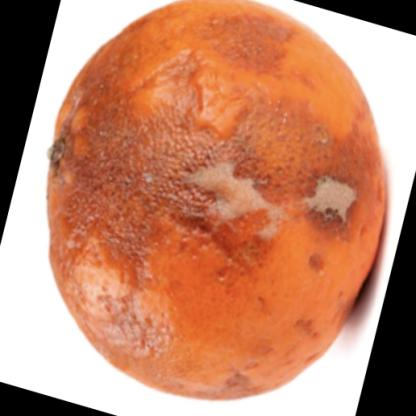rotten: (43, 1, 386, 400)
